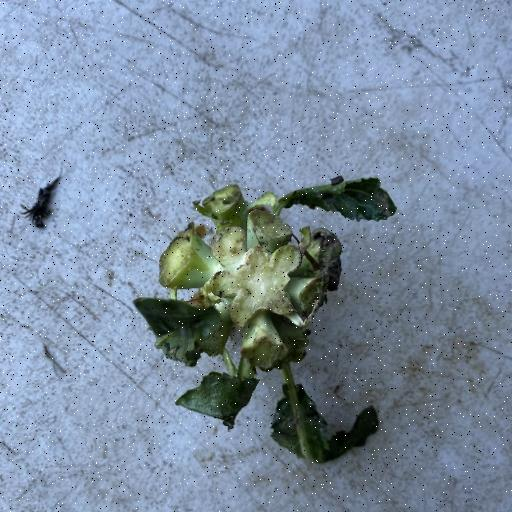Waste: (132, 173, 398, 465)
